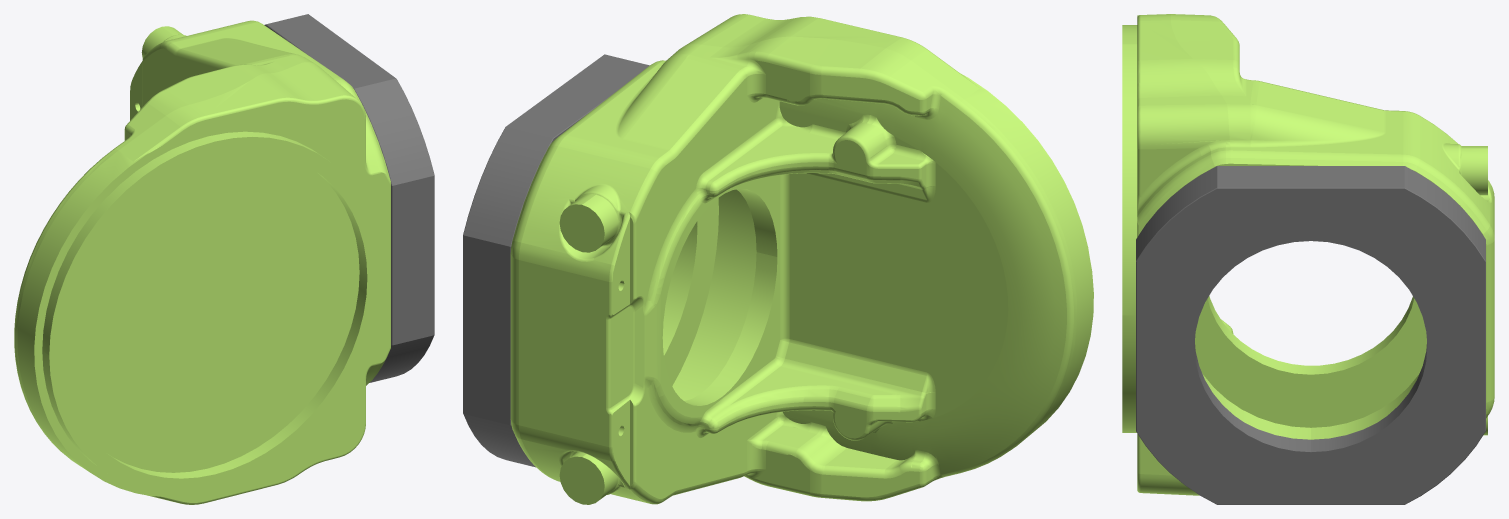
The picture shows the model from 3 angles, left to right: view 1: azimuth 30°, elevation 25°; view 2: azimuth 150°, elevation 25°; view 3: azimuth 270°, elevation 25°; orthographic projection. The views are drawn at different scales.
Parts seen in each view (by area): view 1: Mesh_0; view 2: Mesh_0; view 3: Mesh_0.
Part boxes in pixels (left/top/right/bottom): Mesh_0: left=14, top=14, right=434, bottom=504; Mesh_0: left=463, top=14, right=1093, bottom=504; Mesh_0: left=1122, top=14, right=1494, bottom=504.
Size of the model in its own units: 0.1489 by 0.1125 by 0.138.
